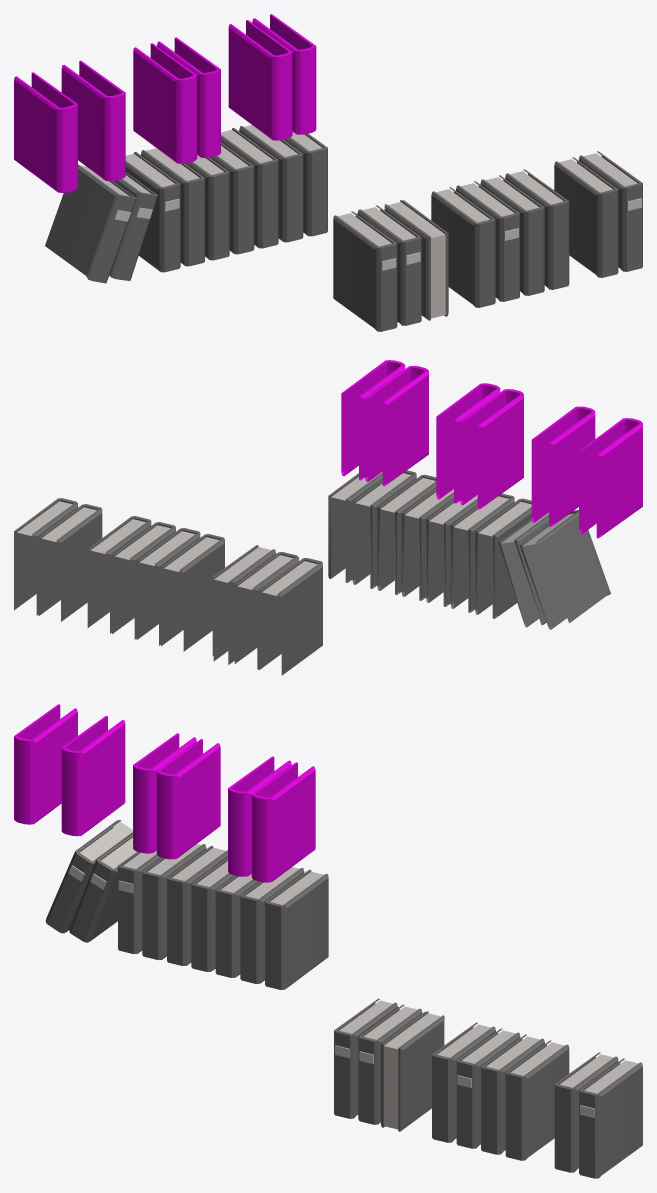
The model's file is Block_Book_P.fbx.
3 renders of one model, top to bottom at view 1: azimuth 30°, elevation 25°; view 2: azimuth 150°, elevation 25°; view 3: azimuth 330°, elevation 25°, orthographic.
Parts seen in each view (by area): view 1: Block_Book_P; view 2: Block_Book_P; view 3: Block_Book_P.
Boxes of the visible parts, x1,y1,x2,y2 form: Block_Book_P: [14, 14, 642, 331]; Block_Book_P: [14, 360, 642, 675]; Block_Book_P: [14, 704, 642, 1178].
Bounding box in the file's own units: 254 × 124 × 35.16.
